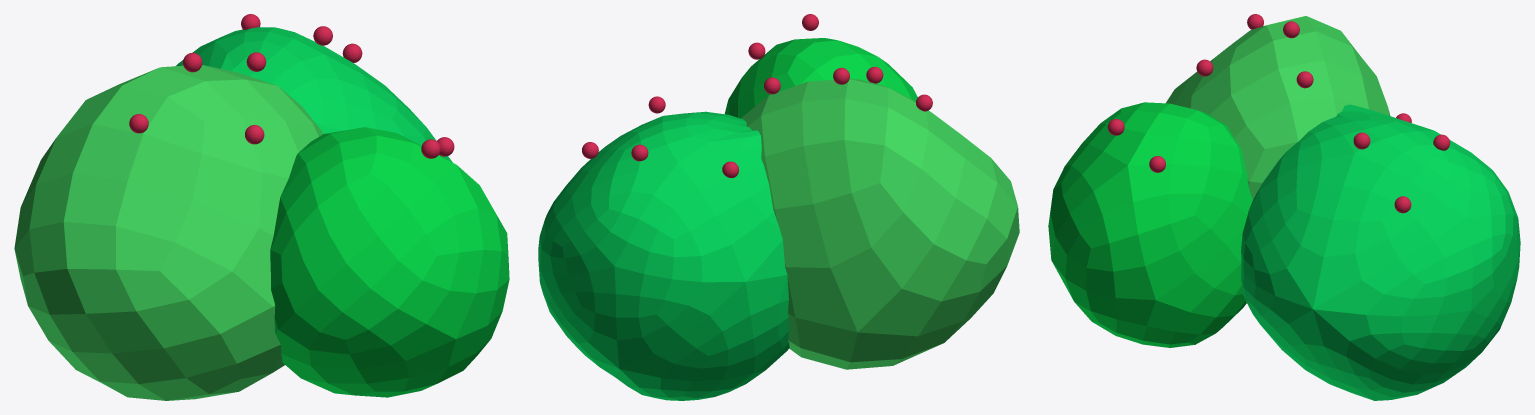
The model's file is polybush_2.fbx.
The picture shows the model from 3 angles, left to right: view 1: azimuth 30°, elevation 25°; view 2: azimuth 150°, elevation 25°; view 3: azimuth 270°, elevation 25°; orthographic projection. The views are drawn at different scales.
Visible parts, largest first — view 1: Icosphere.002, Icosphere, Icosphere.001; view 2: Icosphere.002, Icosphere.001, Icosphere; view 3: Icosphere.001, Icosphere, Icosphere.002.
Part boxes in pixels (x1,y1,x2,y2): Icosphere.002: [14, 65, 322, 400]; Icosphere: [270, 127, 509, 397]; Icosphere.001: [175, 27, 452, 162]; Icosphere.002: [741, 79, 1019, 369]; Icosphere.001: [538, 111, 789, 400]; Icosphere: [724, 38, 917, 118]; Icosphere.001: [1241, 104, 1520, 400]; Icosphere: [1048, 102, 1252, 347]; Icosphere.002: [1166, 16, 1390, 199].
Bounding box in the file's own units: 287 × 217 × 297.
